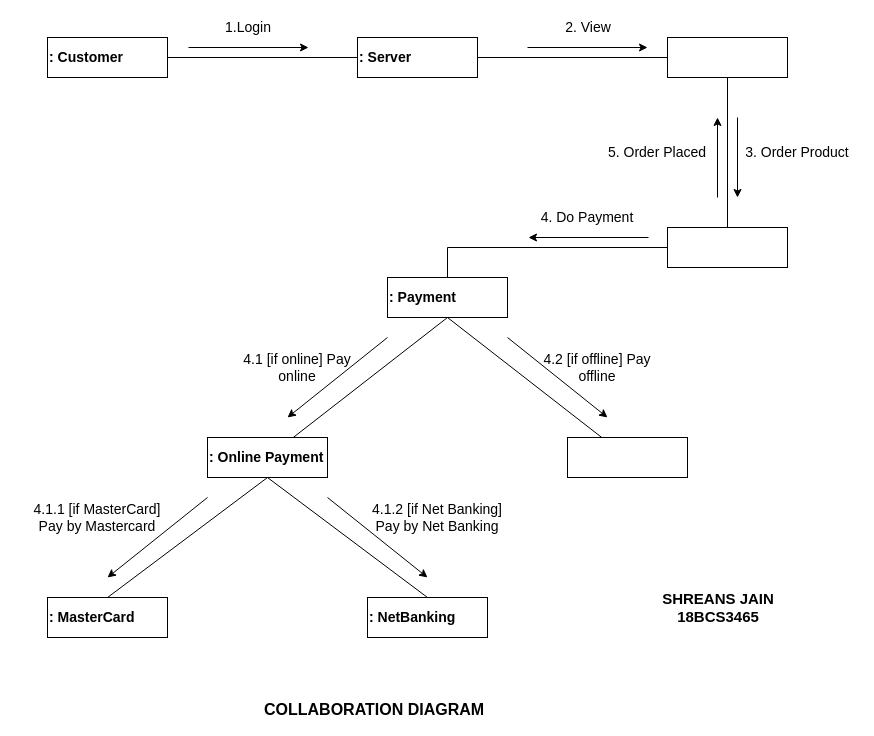
Some shapes in this 874 by 736 pixel diagram are drawn without their labels. Each missing label, with the centre of its shape:
": Offline Payment" goes at (627,457).
": Order" goes at (727,247).
": Product" goes at (727,57).
